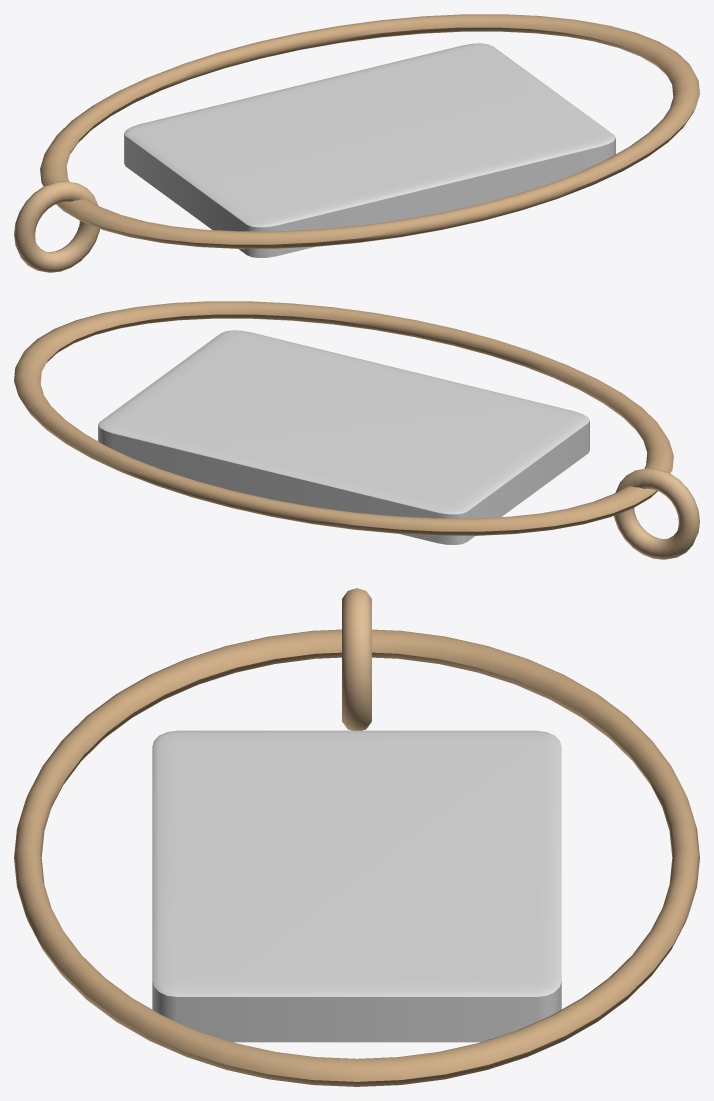
Rendered from cuttingboard.fbx.
3 renders of one model, top to bottom at view 1: azimuth 30°, elevation 25°; view 2: azimuth 150°, elevation 25°; view 3: azimuth 270°, elevation 25°, orthographic. The views are drawn at different scales.
Visible parts, largest first — view 1: Cube; view 2: Cube; view 3: Cube.
Boxes of the visible parts, x1,y1,x2,y2 form: Cube: (14, 14, 699, 272); Cube: (14, 301, 699, 559); Cube: (14, 588, 699, 1086).
Bounding box in the file's own units: 3.61 × 0.46 × 2.18.
